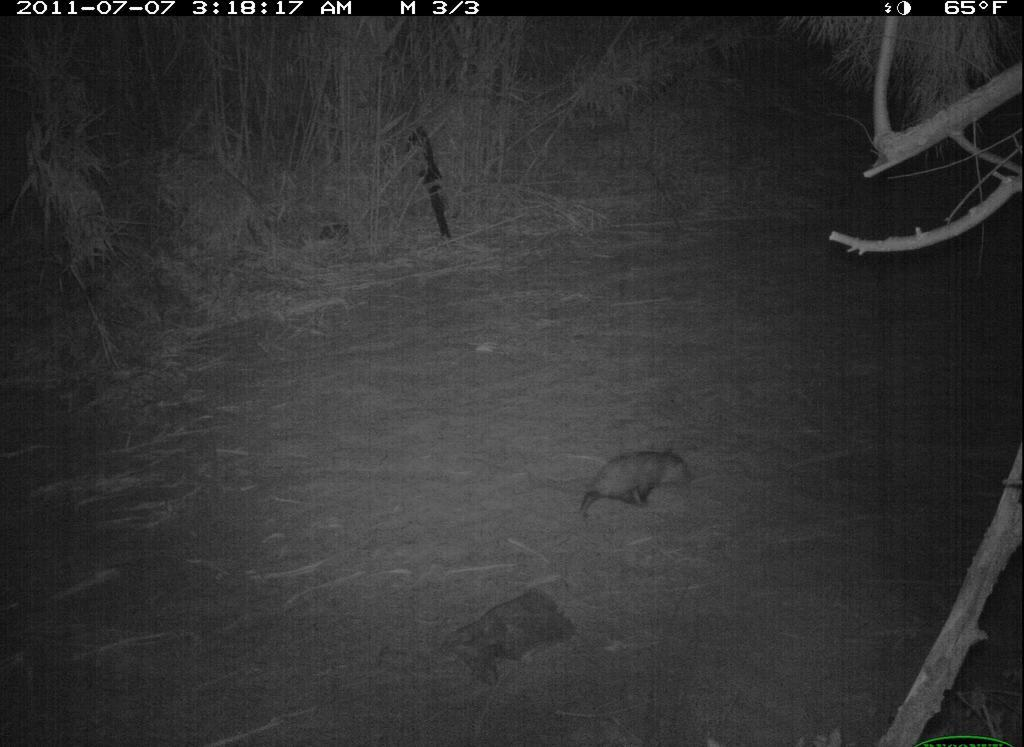opossum: (573, 449, 698, 524)
